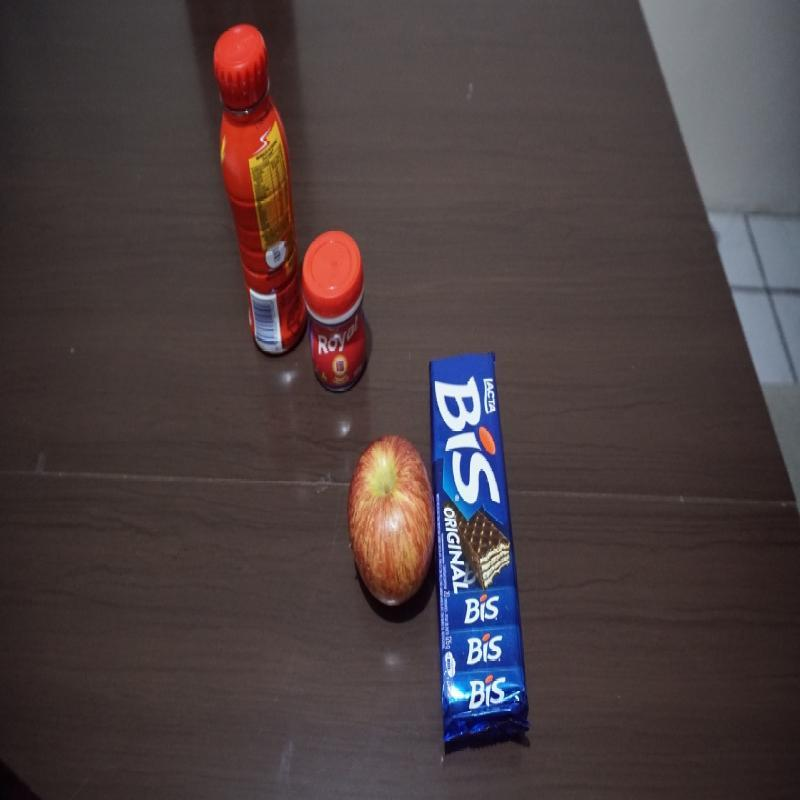Apple: (345, 430, 434, 604)
Chocolate Milk: (215, 24, 305, 358)
Yeast: (306, 228, 368, 384)
